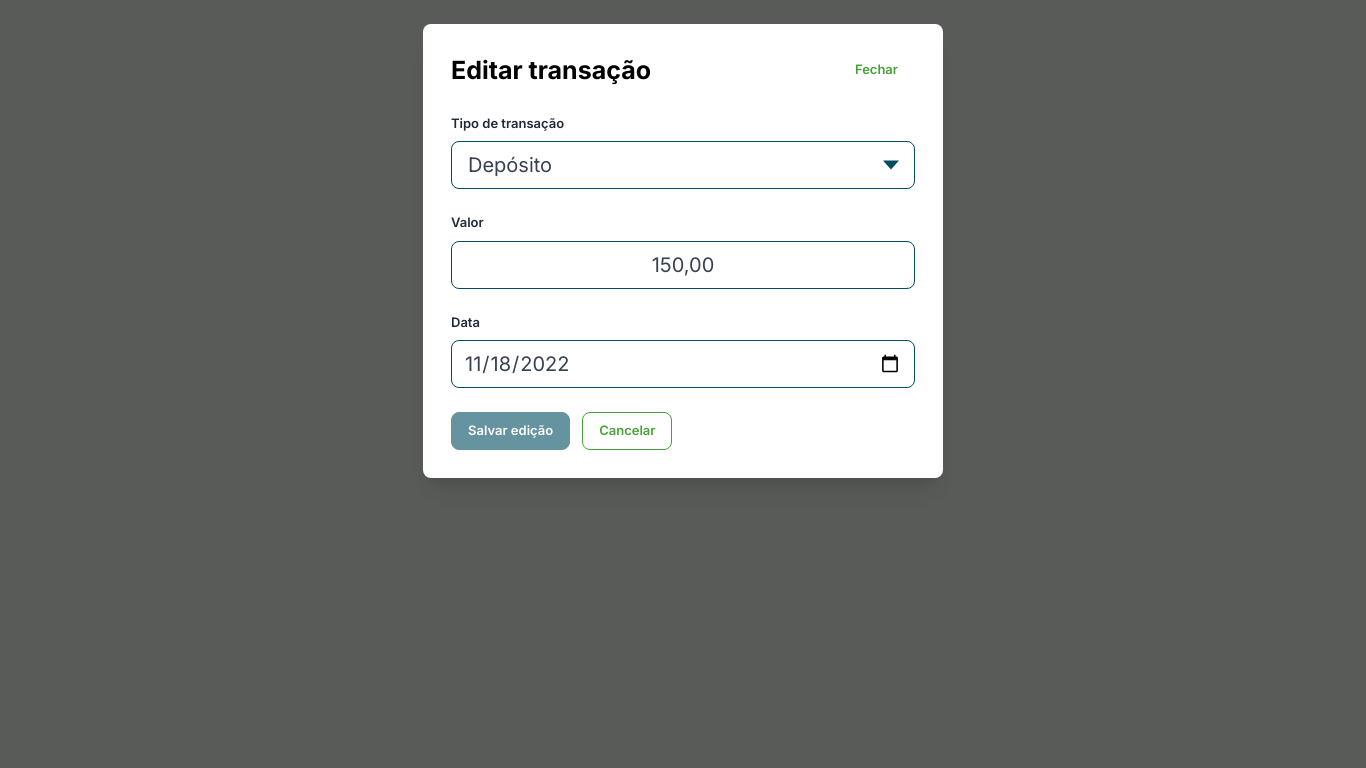
Scenario: EditStatementEntryModal › exibe alerta de erro e permite fechar o alerta
Type "2026-04-21" into the date field labelled "Data" at (683, 364), box [451,340,915,388]
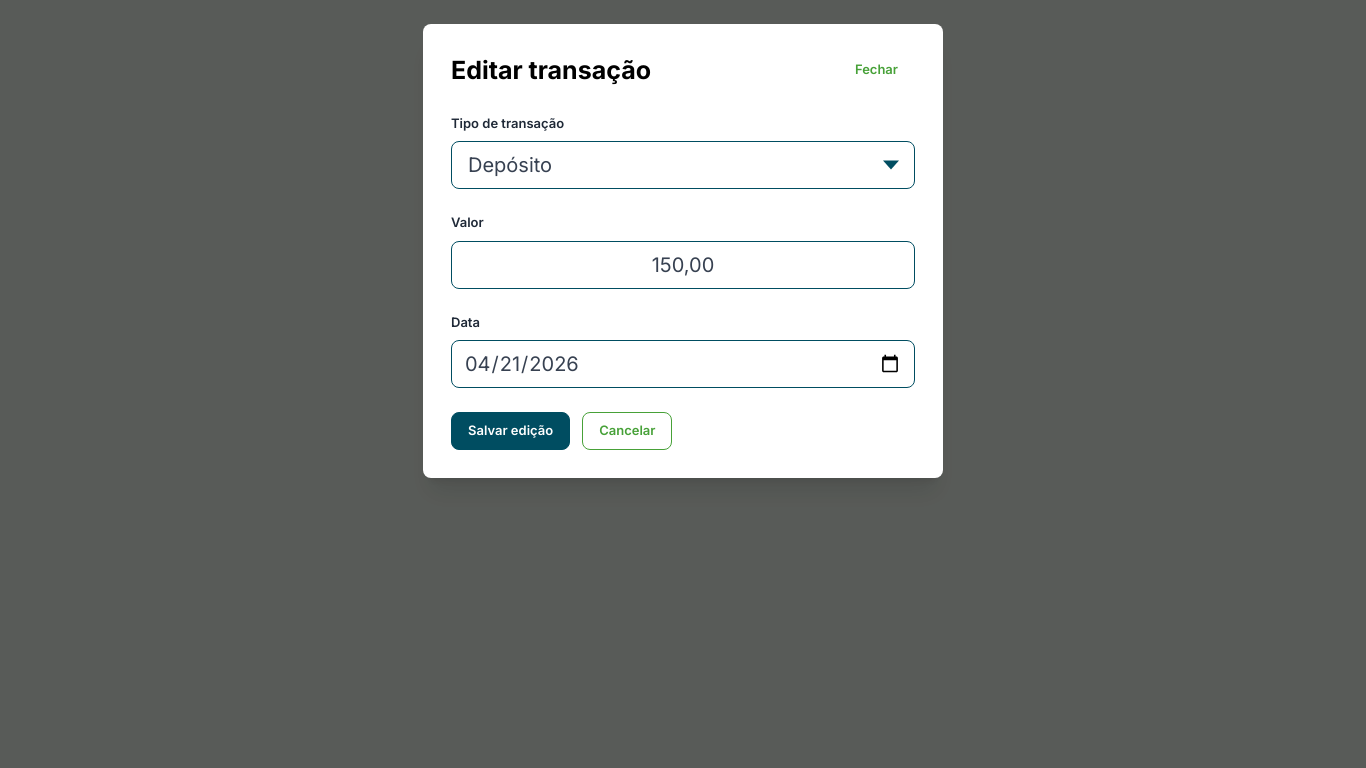
Click the button "Salvar edição" at (511, 431), box [451,412,570,450]
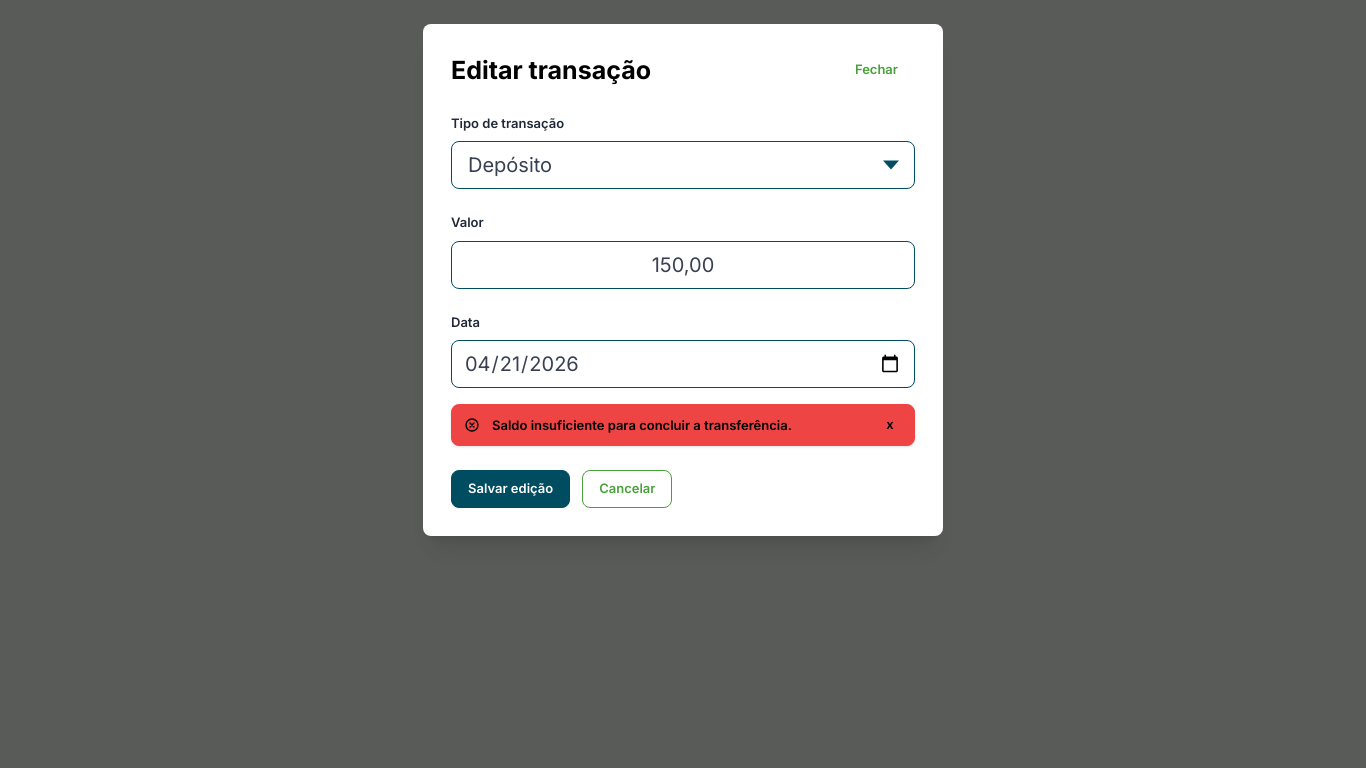
Expected: the message shows "Saldo insuficiente", [492,417,792,433]
Click the button named "Fechar alerta" at (890, 425), box [878,413,902,437]
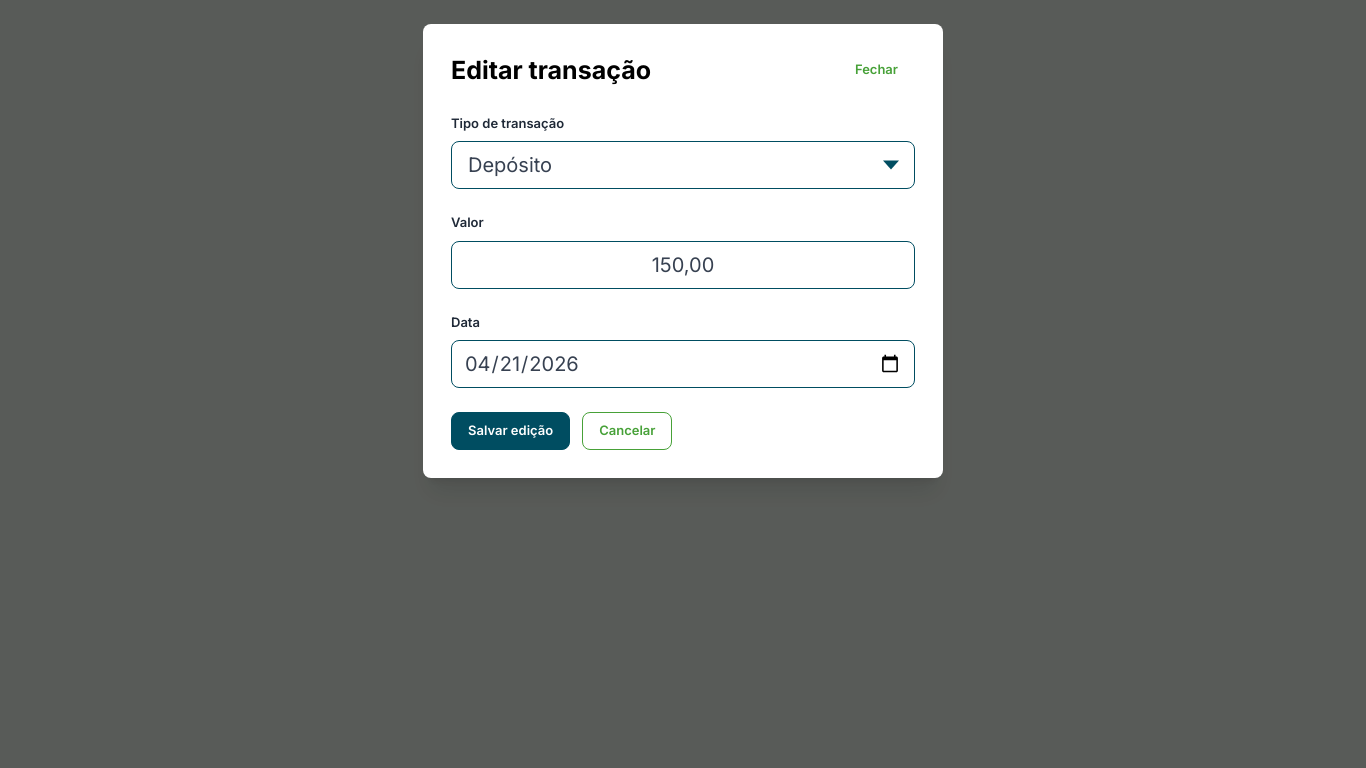
Expected: the message "Saldo insuficiente para concluir a transferência. x" is gone
